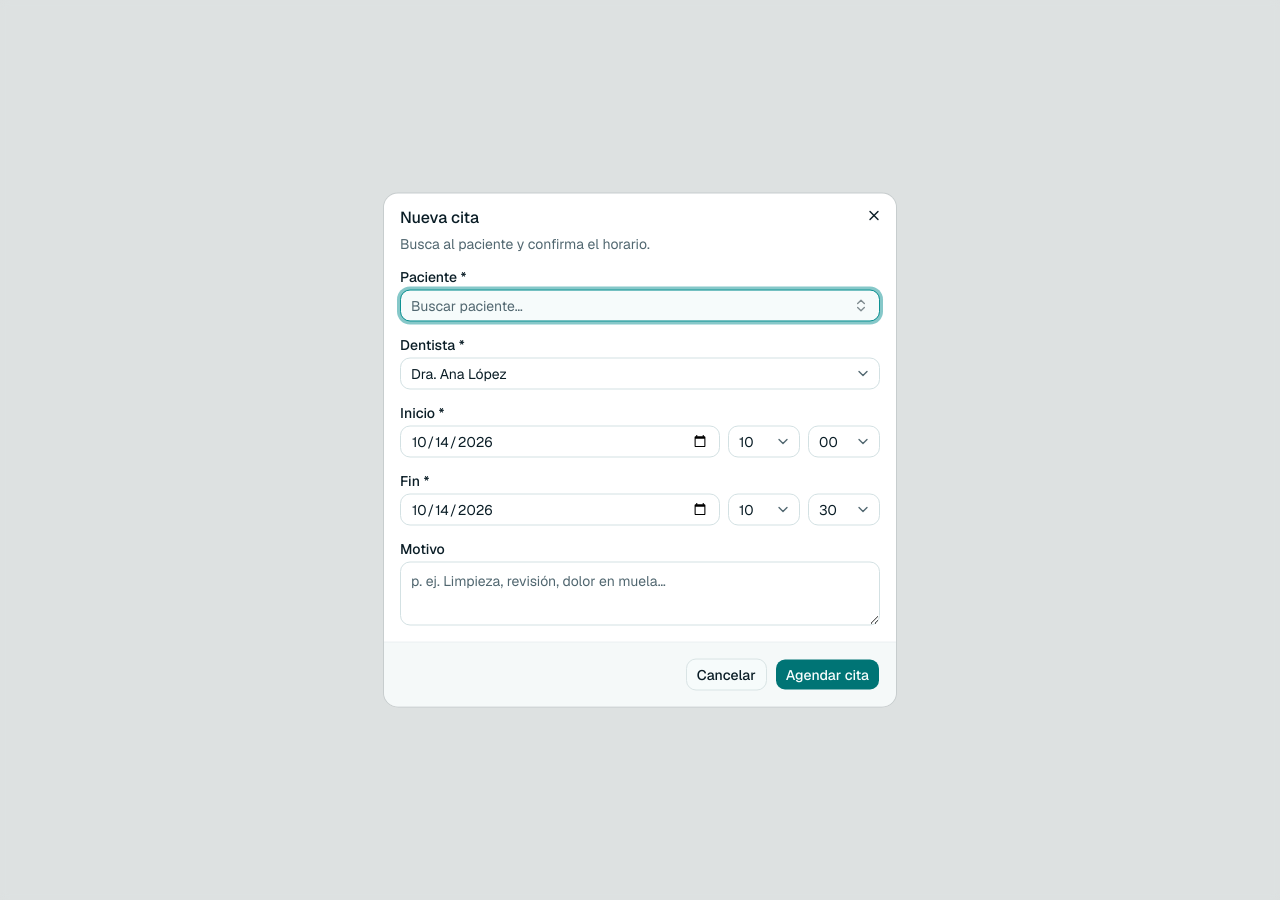
Test: AppointmentCreateDialog › al mover el inicio conserva la duración y avisa si el fin queda antes
Type "2026-10-15" into the date field labelled "Inicio *" at (560, 442), box [400,426,720,458]
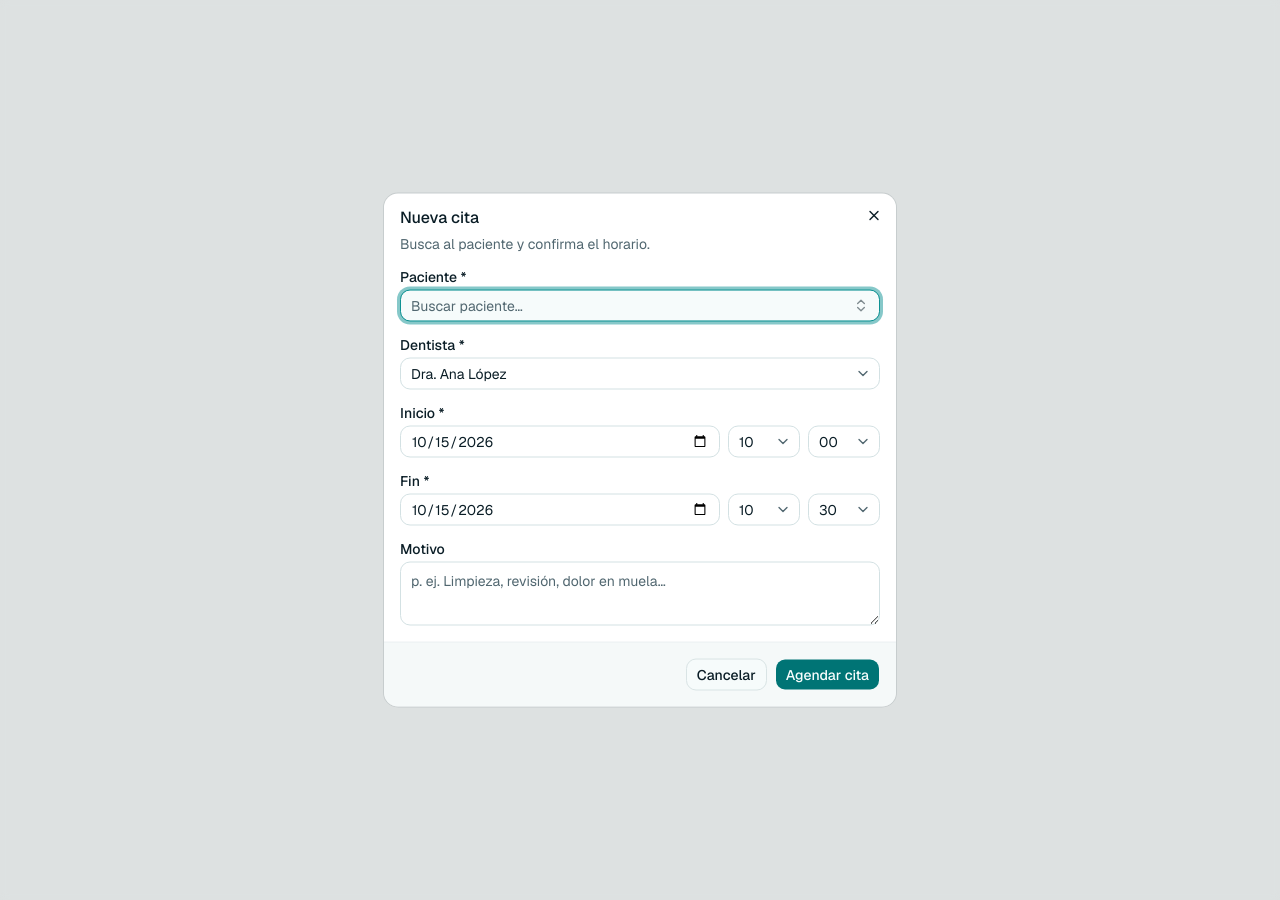
expect the date field labelled "Fin *" holds "2026-10-15": met
Type "2026-10-13" into the date field labelled "Fin *" at (560, 510), box [400,494,720,526]
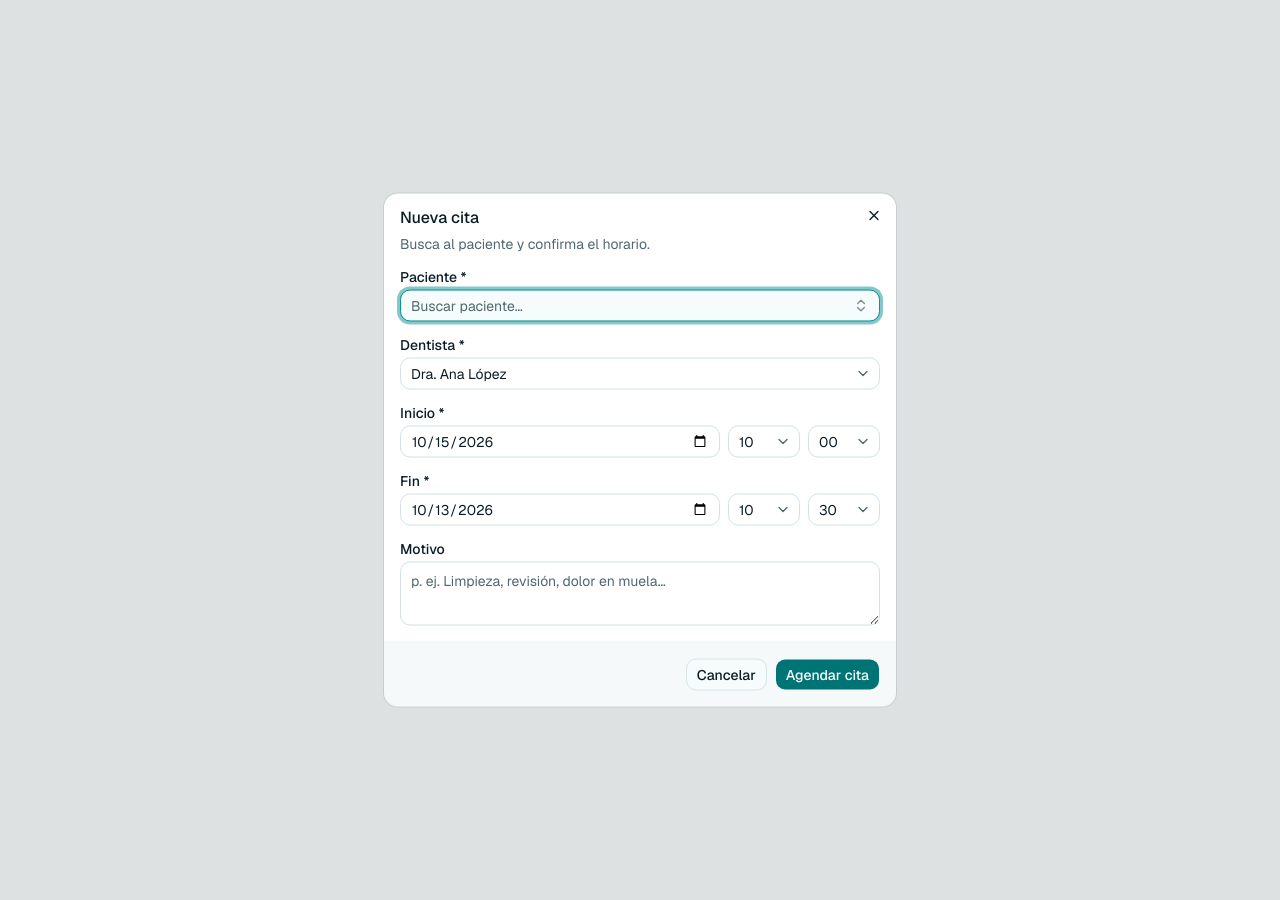
Click the dropdown named "Paciente *" at (467, 306), box [400,290,880,322]
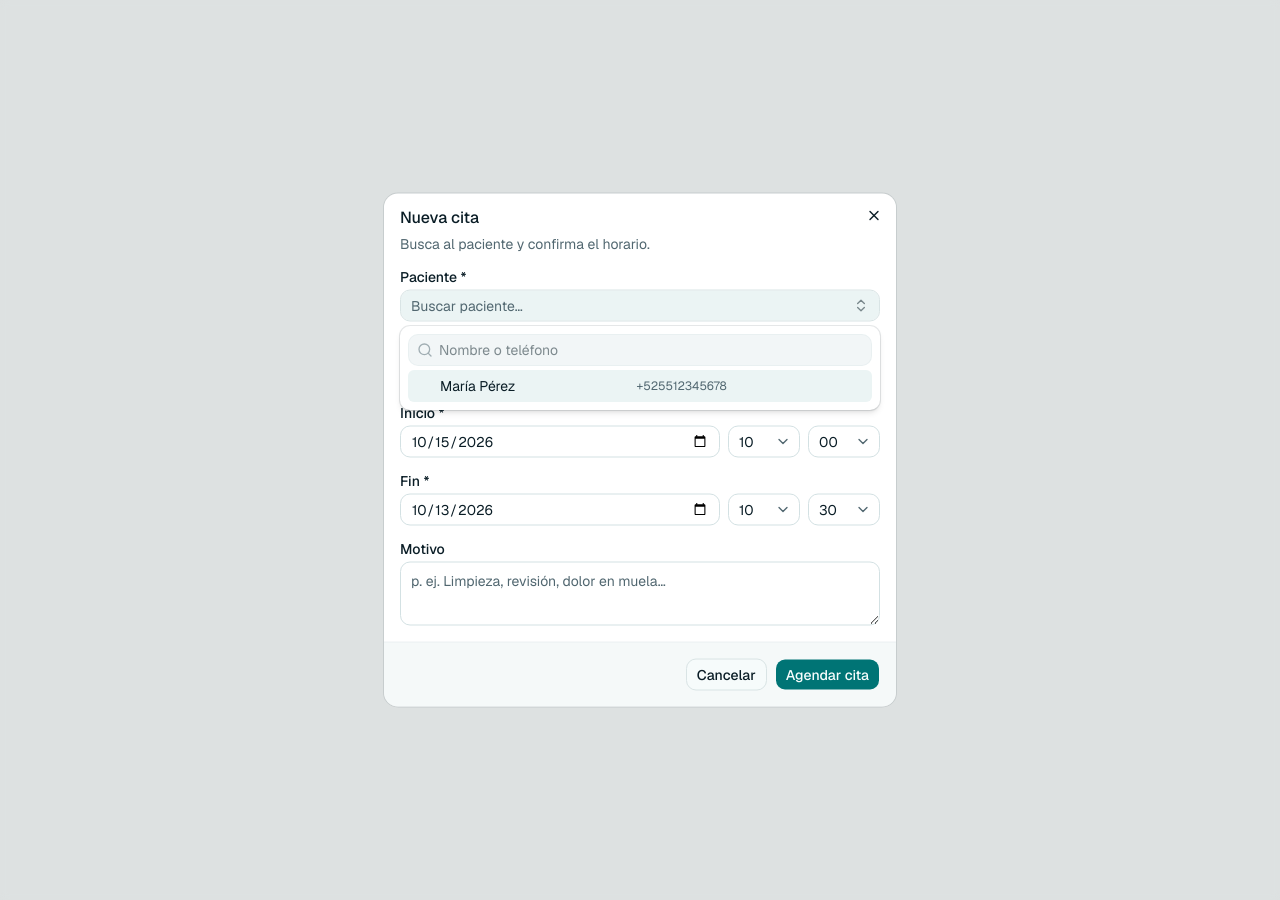
Click the option "María Pérez +525512345678" at (640, 386), box [408,370,872,402]
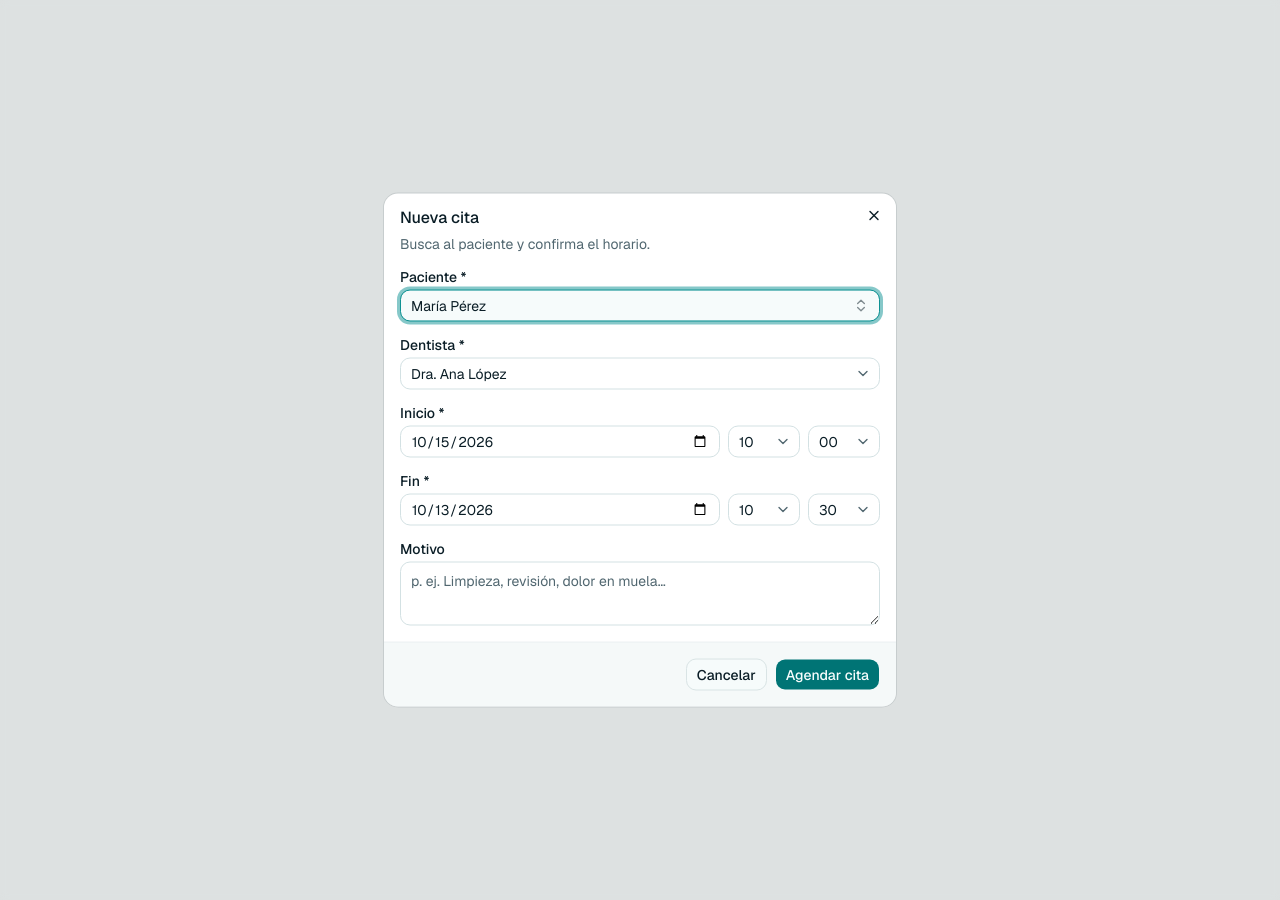
Click the button "Agendar cita" at (827, 674), box [775,658,880,690]
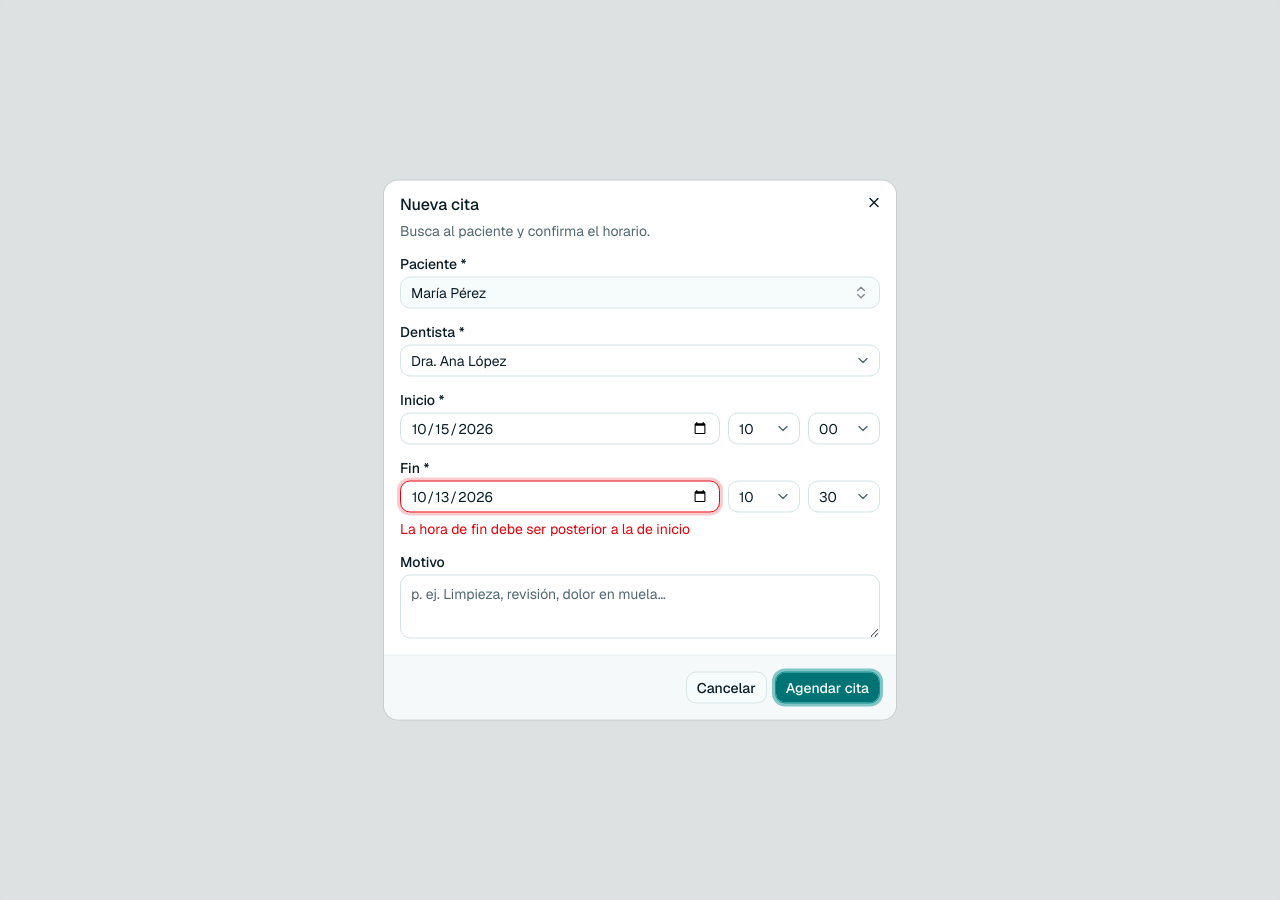
expect the text "La hora de fin debe ser posterior a la de inicio" is shown: met, box [400,520,690,538]
